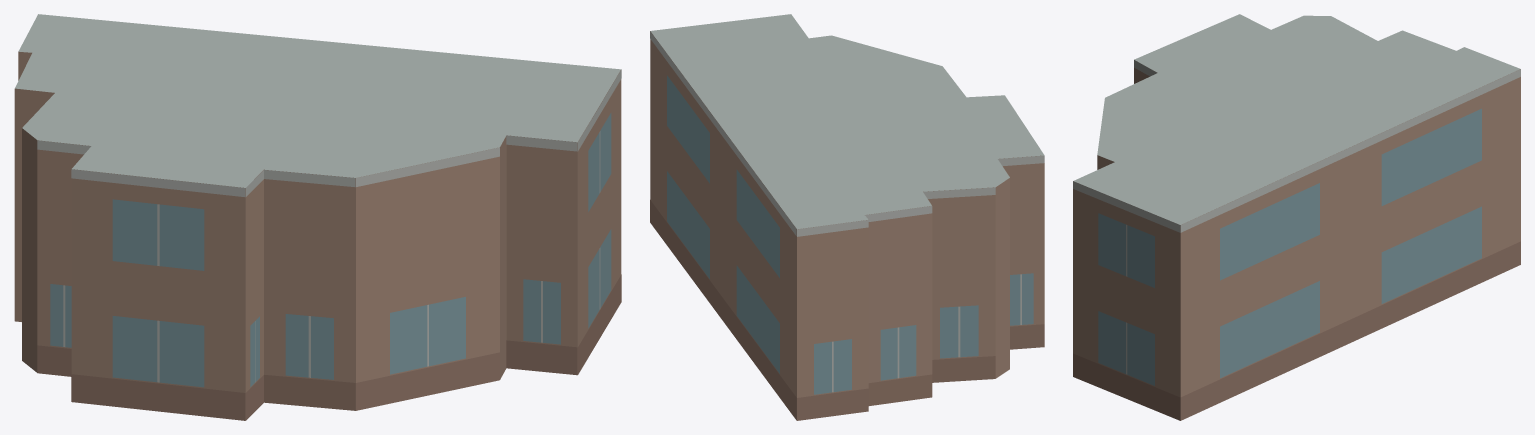
File: survey-upis-32667207.glb
3 views of the same model, side by side, from view 1: azimuth 30°, elevation 25°; view 2: azimuth 150°, elevation 25°; view 3: azimuth 270°, elevation 25° (orthographic). The views are drawn at different scales.
Visible parts, largest first — view 1: survey-upis-32667207.tmp; view 2: survey-upis-32667207.tmp; view 3: survey-upis-32667207.tmp.
Boxes of the visible parts, x1,y1,x2,y2 form: survey-upis-32667207.tmp: [14, 14, 621, 420]; survey-upis-32667207.tmp: [650, 14, 1044, 420]; survey-upis-32667207.tmp: [1073, 14, 1520, 420].
Size of the model in its own units: 14.11 by 6.1 by 12.65.
